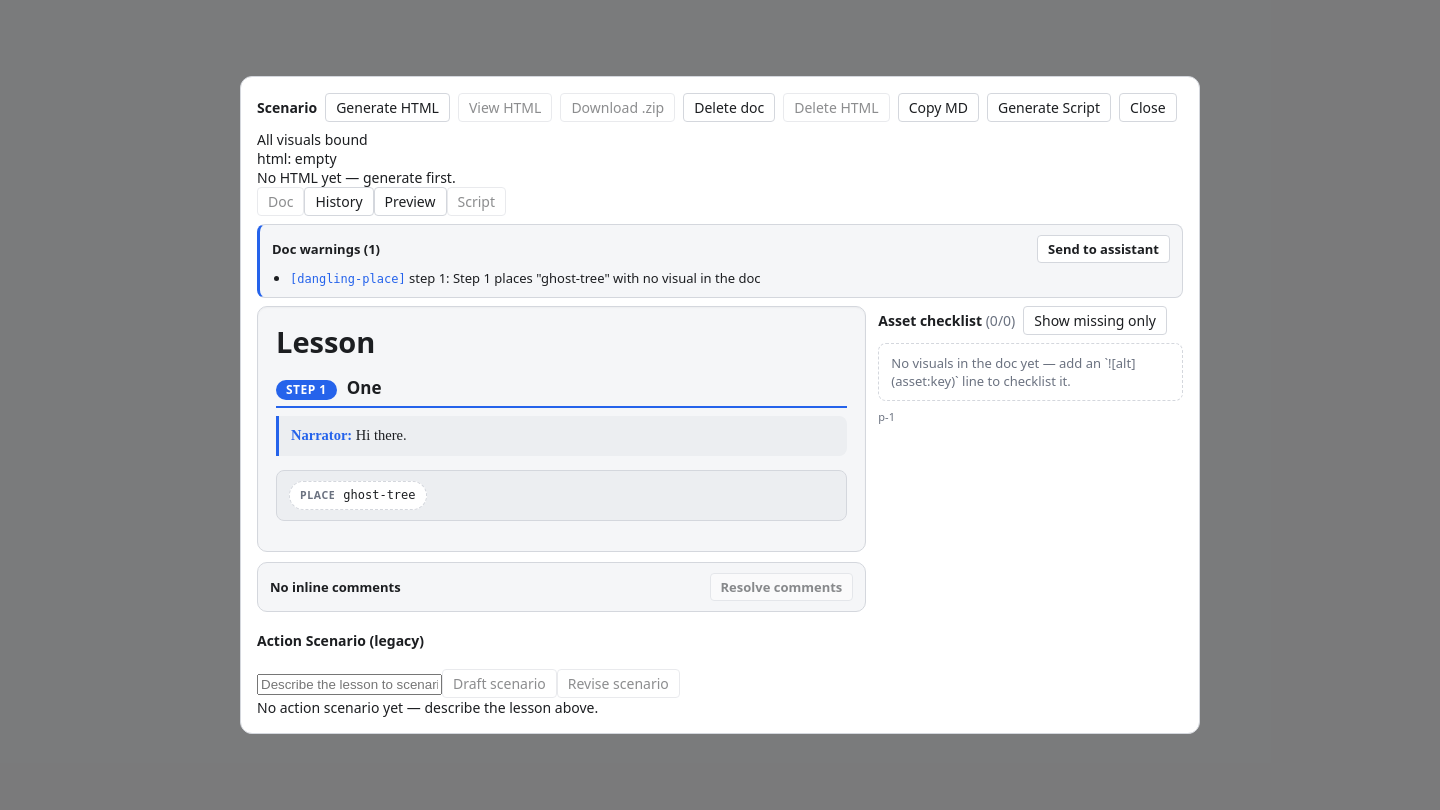
Scenario: AiScenarioModal Generate Script (issue #471) › blocks apply on hard errors and keeps the preview reviewable
Click the button with test id "ai-scenario-generate-script": [1049, 108] box [987,93,1111,122]
(page scrolled)
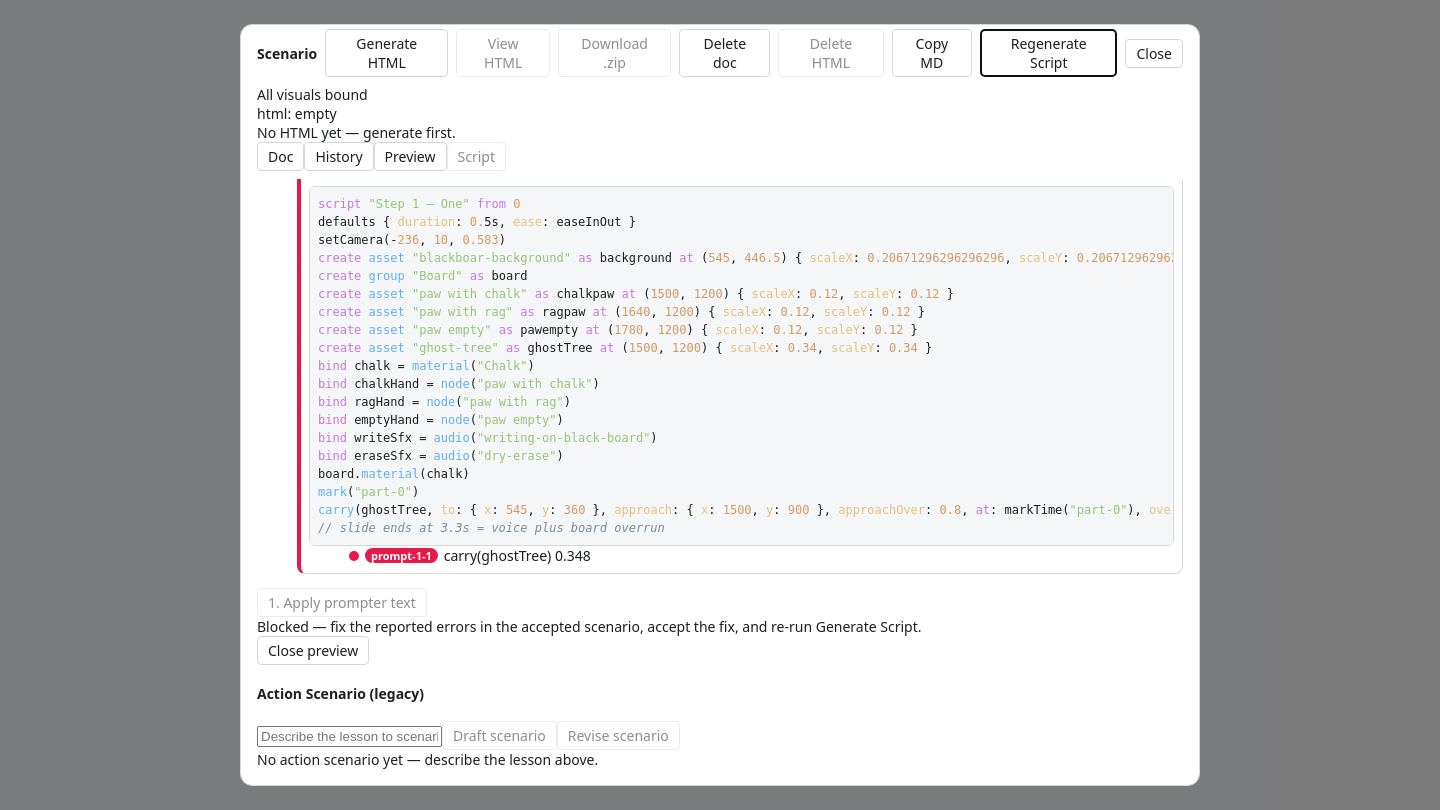
Expected: the element with test id "ai-scenario-script-preview" is shown, [257,179,1183,665]
Expected: the button with test id "ai-scenario-script-apply-prompter" is disabled, [257,588,427,617]
Expected: the text with test id "ai-scenario-script-blocked-hint" is shown, [257,617,922,636]
